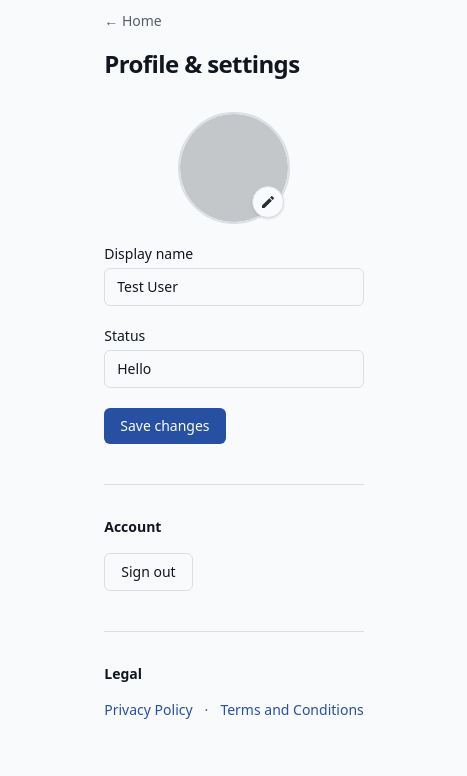
Test: SettingsPage › shows validation when submit is pressed with no changes
Check: the field labelled "Display name" holds "Test User", box [104,268,364,306]
Click the button "Save changes". click: {"x": 165, "y": 426}
box: [104,408,226,444]
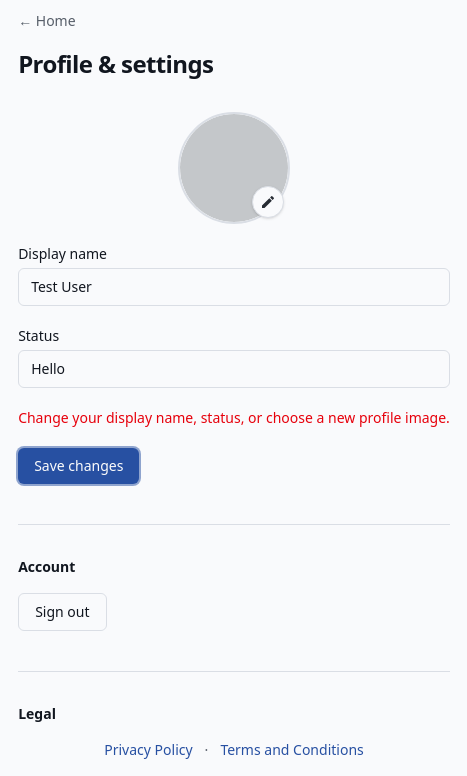
Check: the text "Change your display name, status, or choose a new profile image." is shown, box [18,408,450,428]
